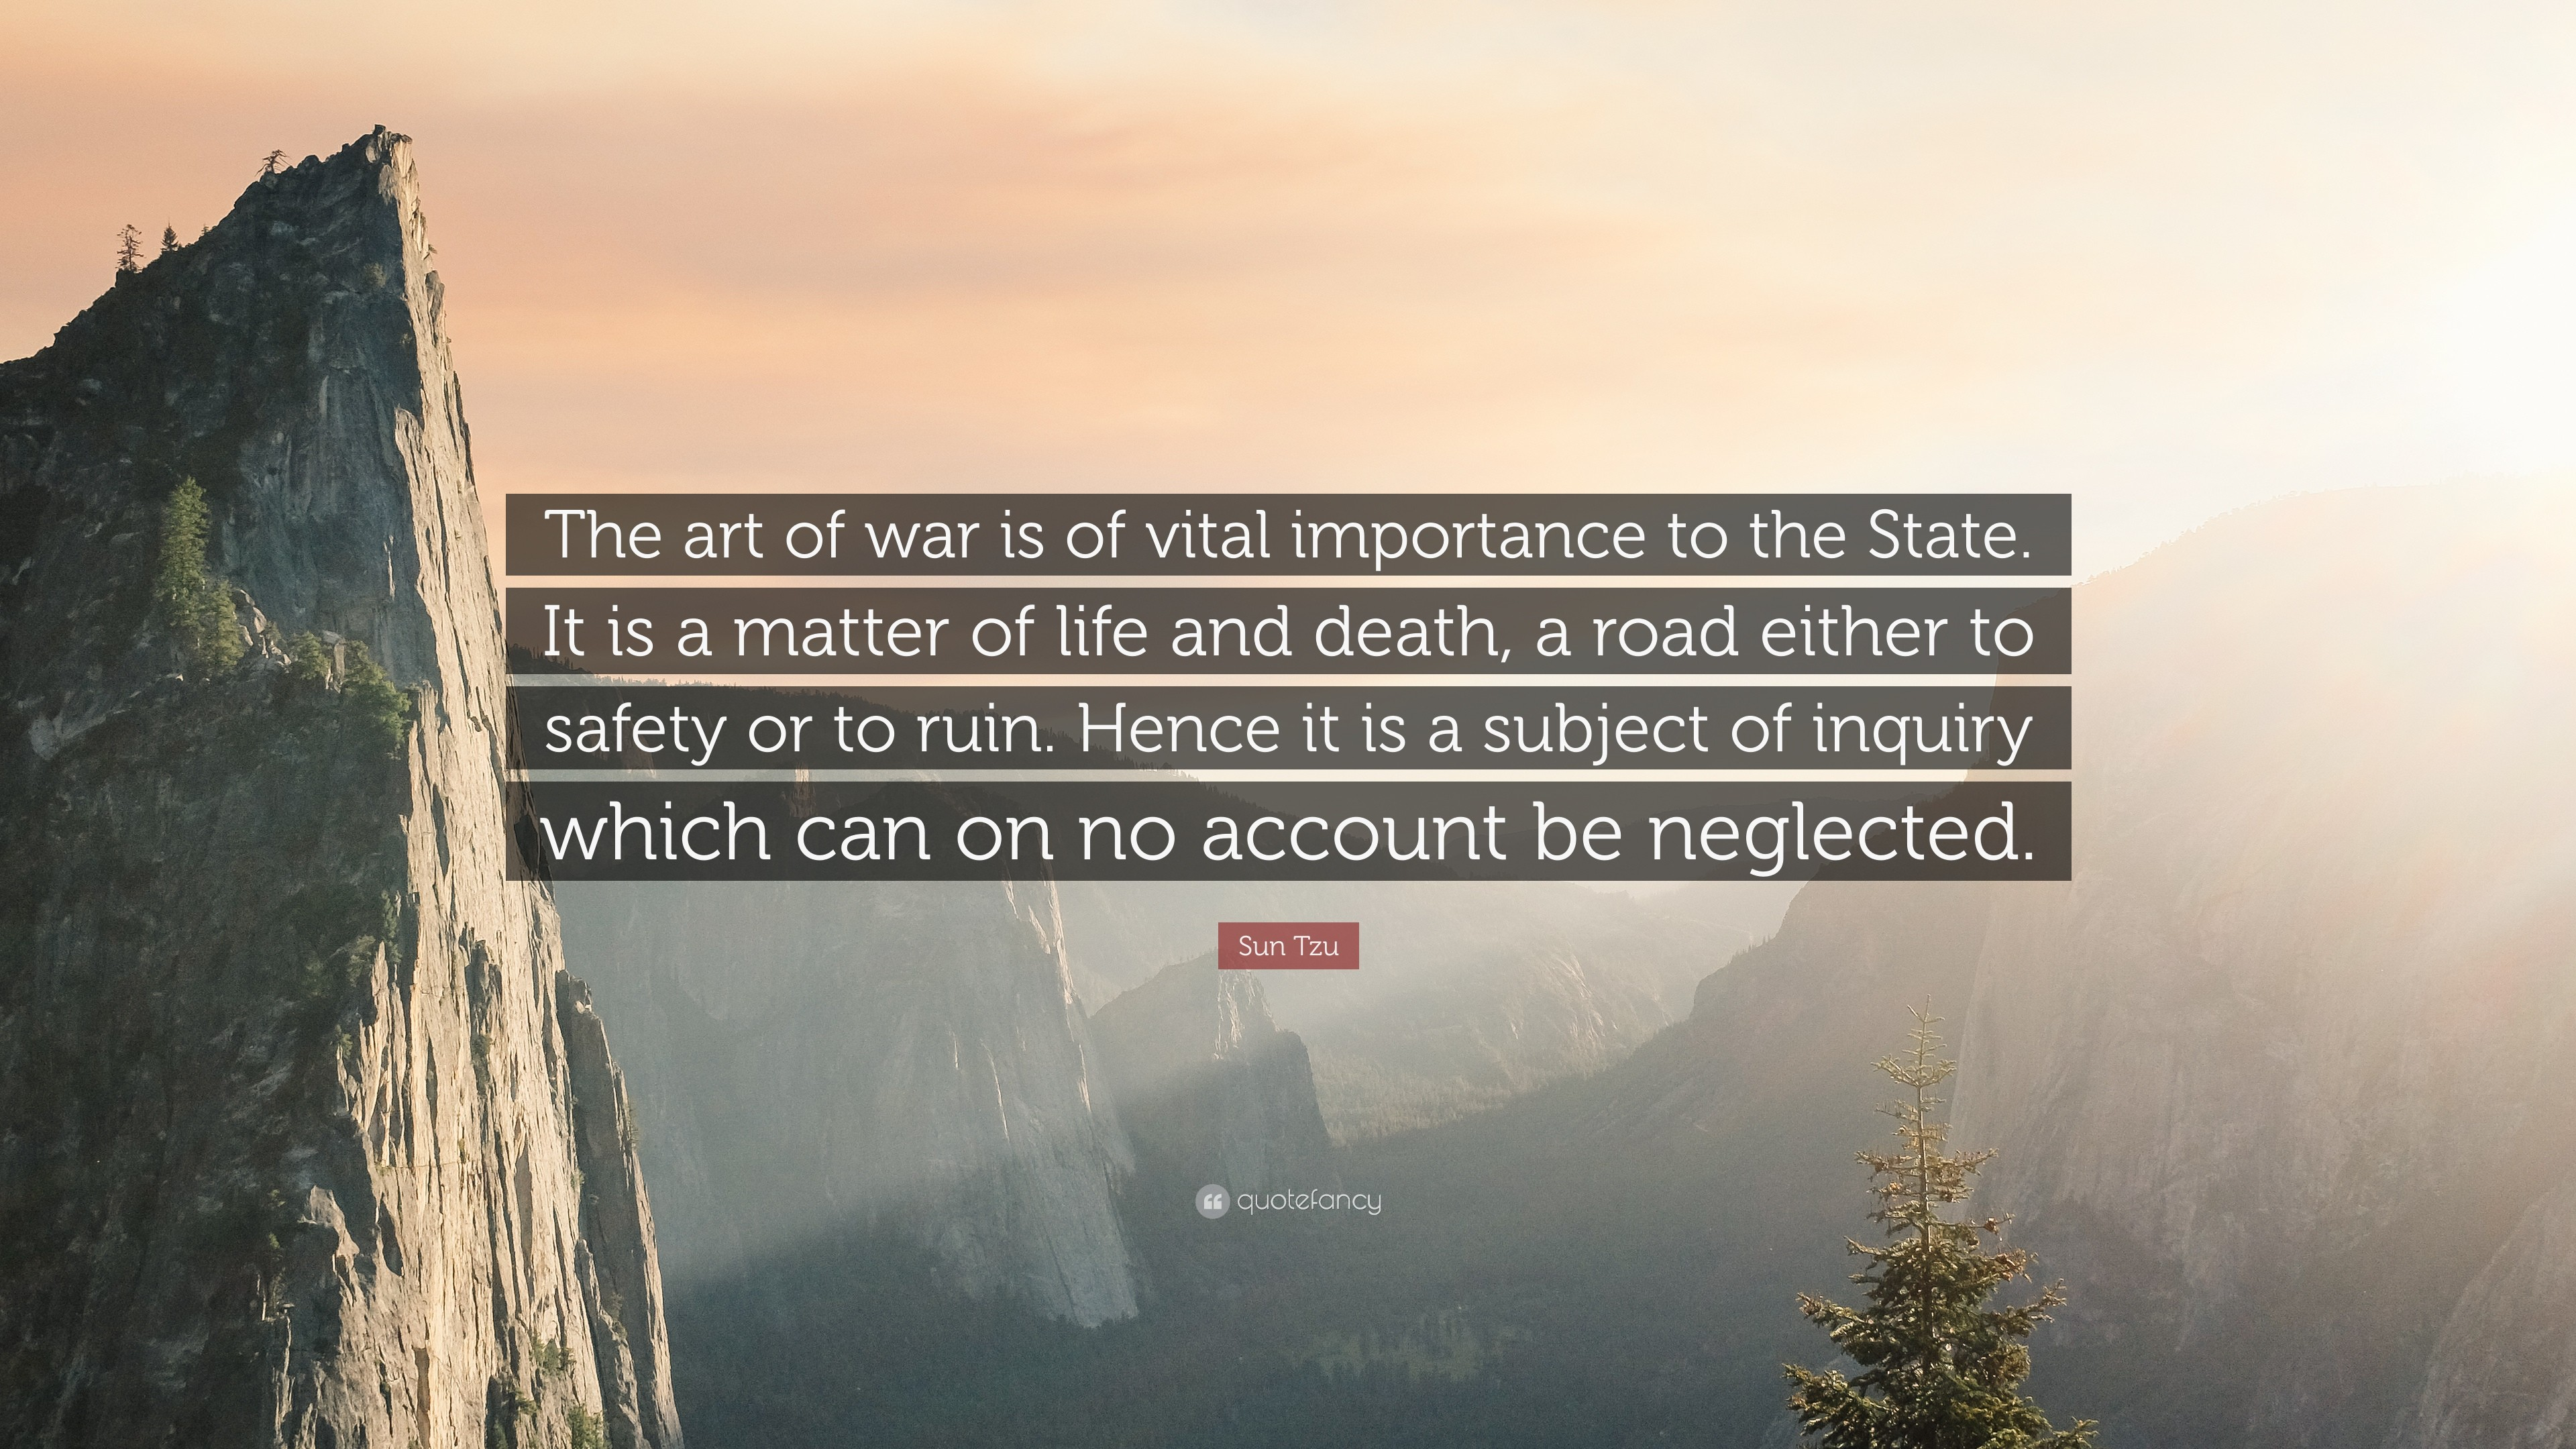latin: (510, 497, 2049, 886), (1233, 1192, 1389, 1221), (1233, 932, 1346, 961)
